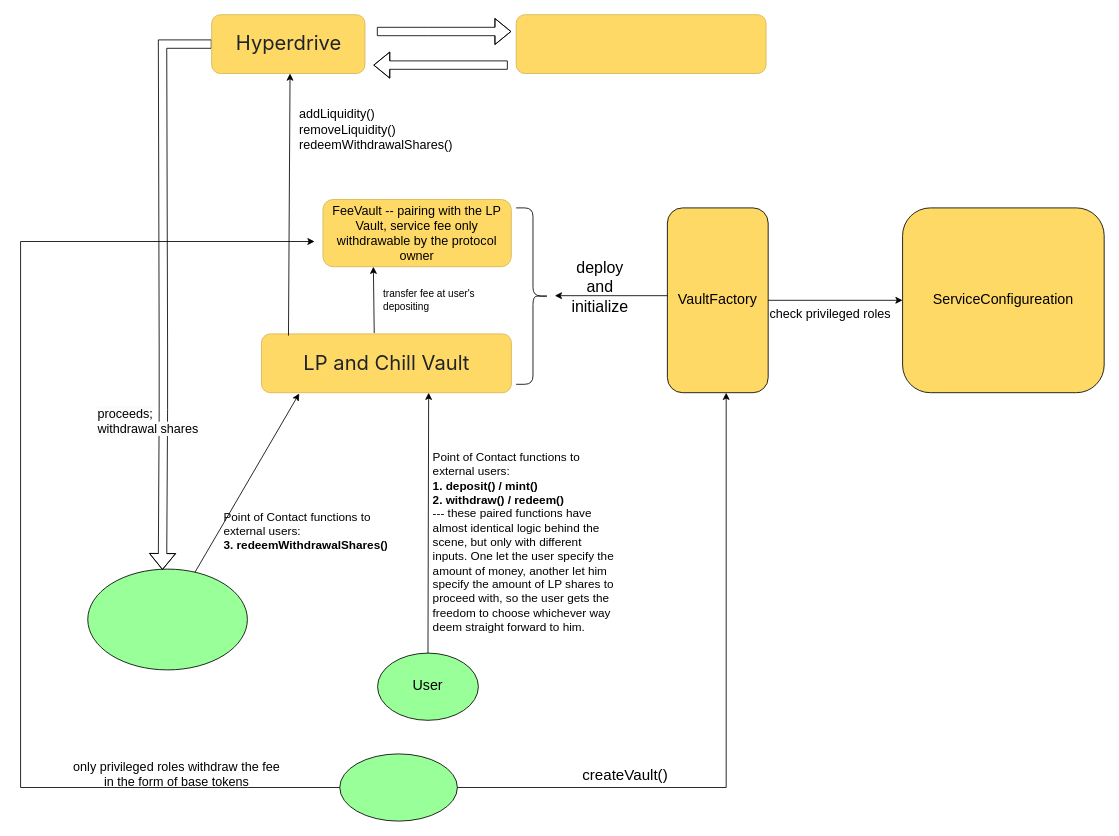
Image size: 1119x836. Some labels were removed from this diagram. Here are the shapes that lost their labels. From the top down, the centre of each, then its label:
At pixel 640 44: "External Yield Source, like AAVE, Lido....etc.".
At pixel 167 619: "User specified destination -- could be the same addr as User, or not".
At pixel 398 787: "Protocol Operator".
